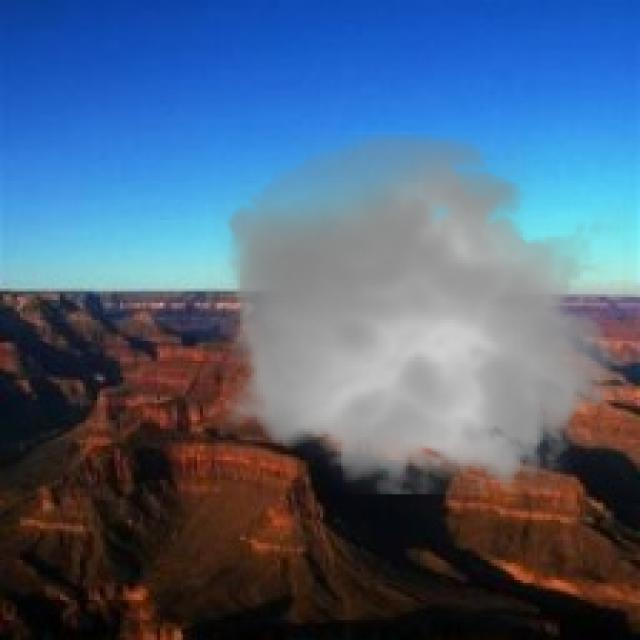Smoke: (206, 120, 632, 512)
